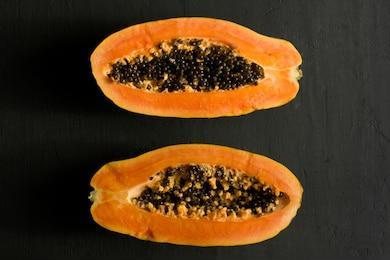papaya: (89, 144, 304, 246), (87, 19, 303, 120)
